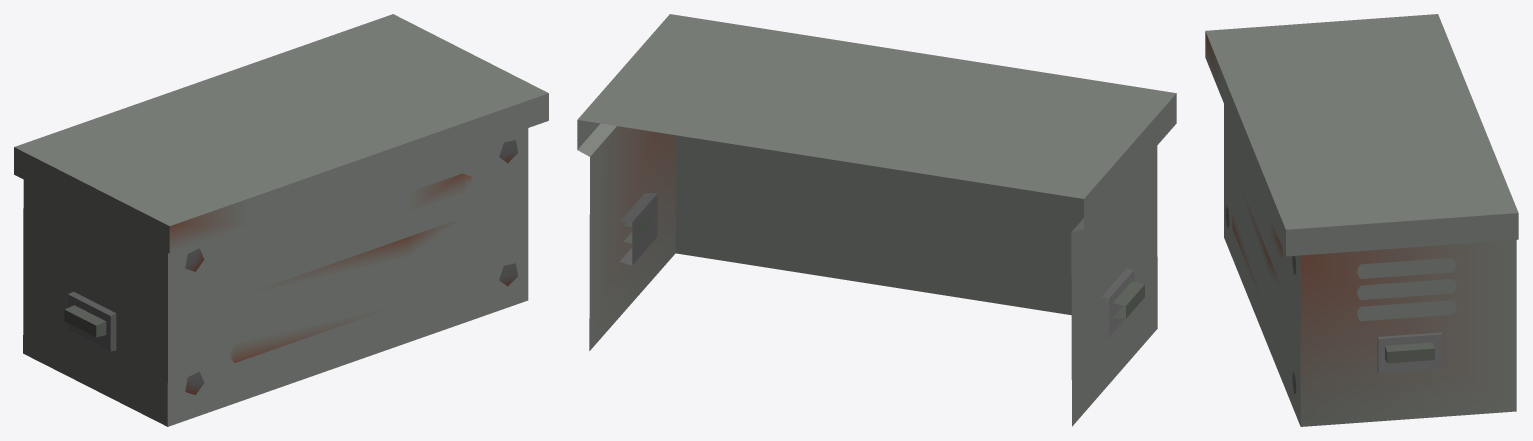
Rendered from MSH_QuestObject_container_02.fbx.
The picture shows the model from 3 angles, left to right: view 1: azimuth 30°, elevation 25°; view 2: azimuth 150°, elevation 25°; view 3: azimuth 270°, elevation 25°; orthographic projection. The views are drawn at different scales.
Visible parts, largest first — view 1: MSH_QuestObject_container_02; view 2: MSH_QuestObject_container_02; view 3: MSH_QuestObject_container_02.
Part boxes in pixels (box(x1,y1,x2,y2)): MSH_QuestObject_container_02: box(14, 14, 548, 426); MSH_QuestObject_container_02: box(577, 14, 1176, 426); MSH_QuestObject_container_02: box(1205, 14, 1518, 426).
Size of the model in its own units: 2.07 by 0.9101 by 1.27.
